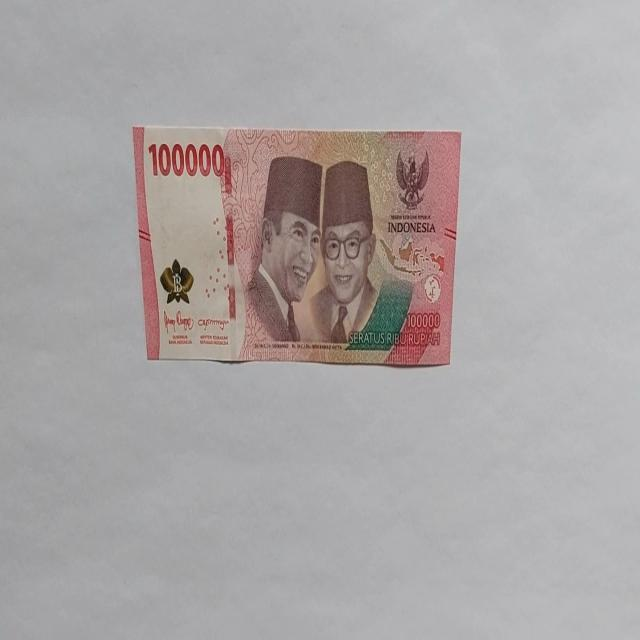seratus ribu rupiah: (132, 124, 462, 368), (245, 154, 323, 345)
